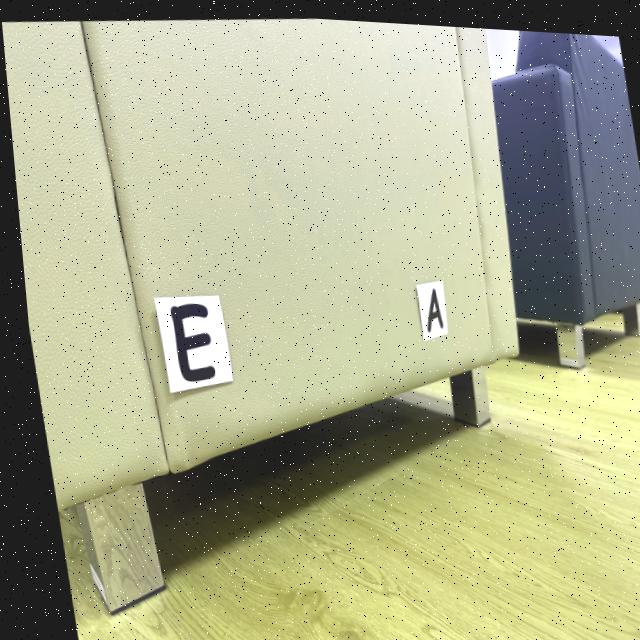A: (421, 283, 437, 326)
E: (164, 302, 208, 379)
